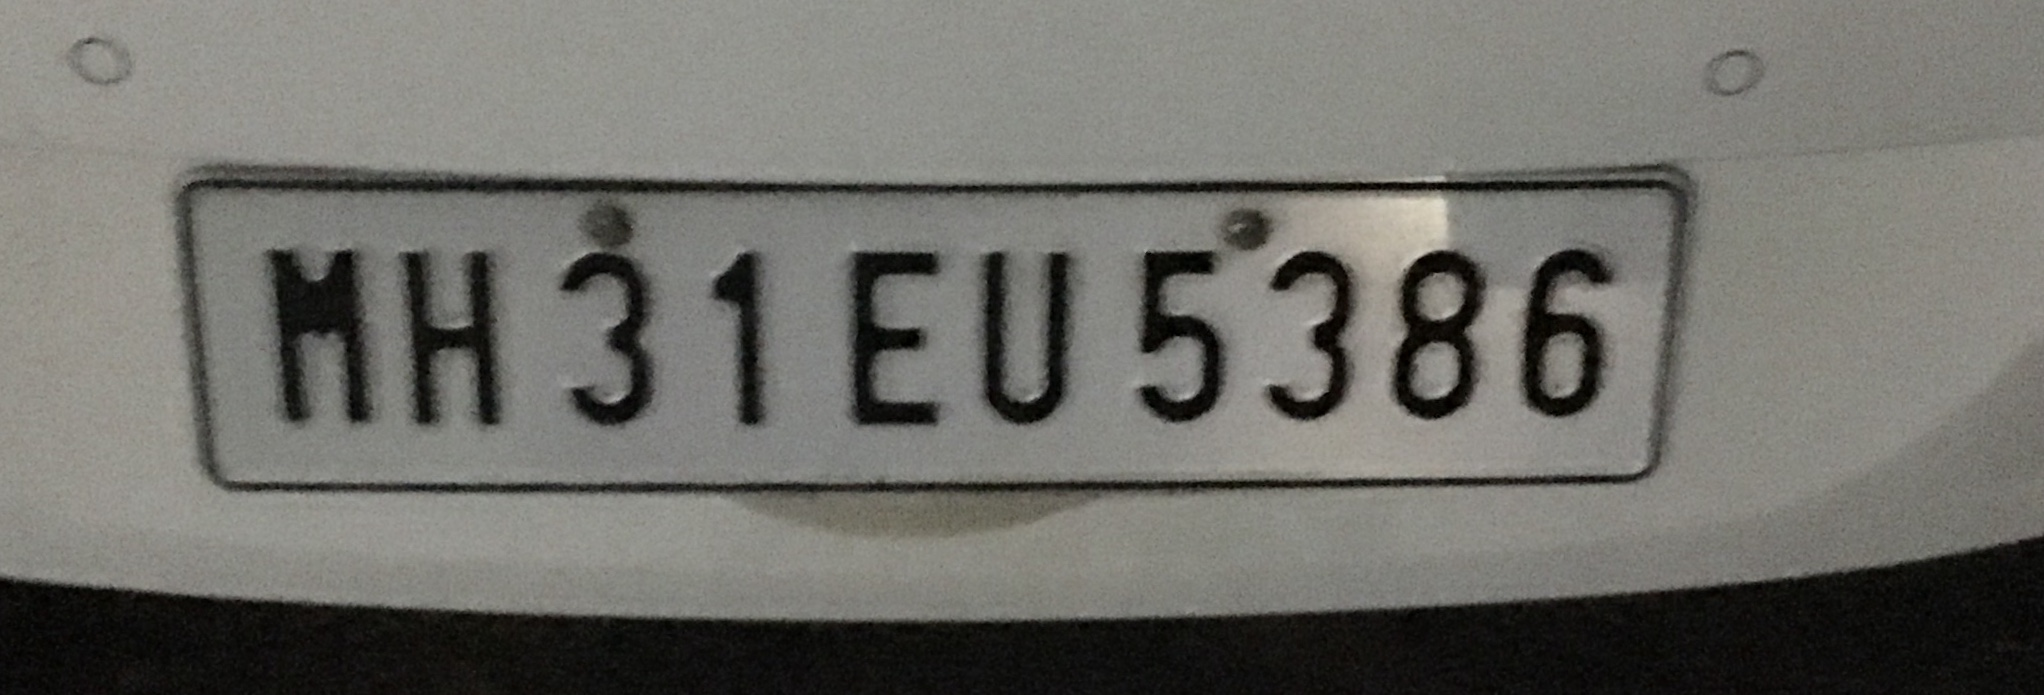numberplate: (170, 164, 1690, 490)
